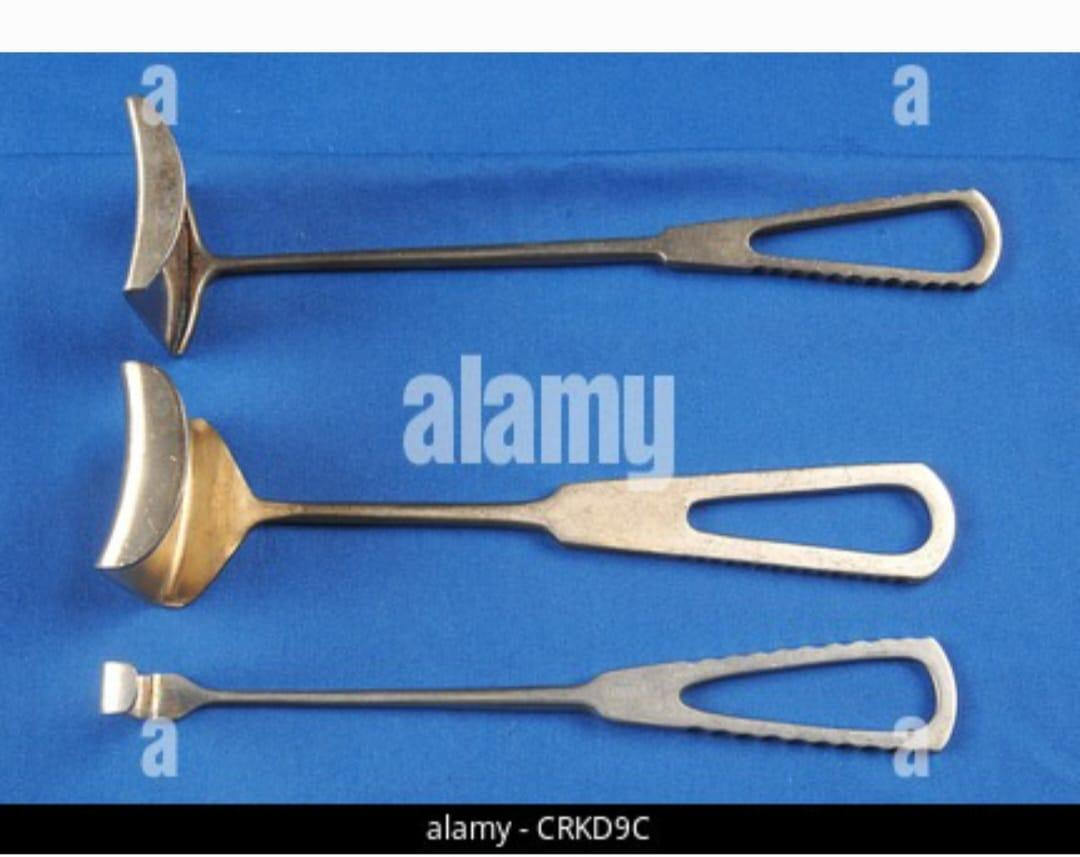Morris Retractor: (100, 75, 1014, 349), (86, 354, 980, 618)
